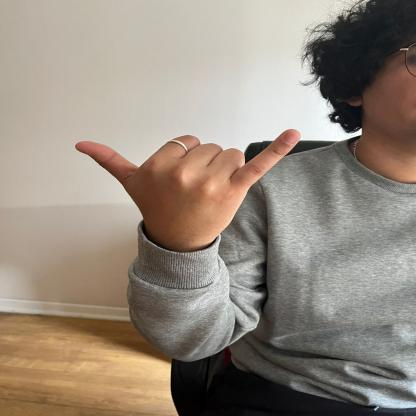Y: (72, 121, 305, 234)
